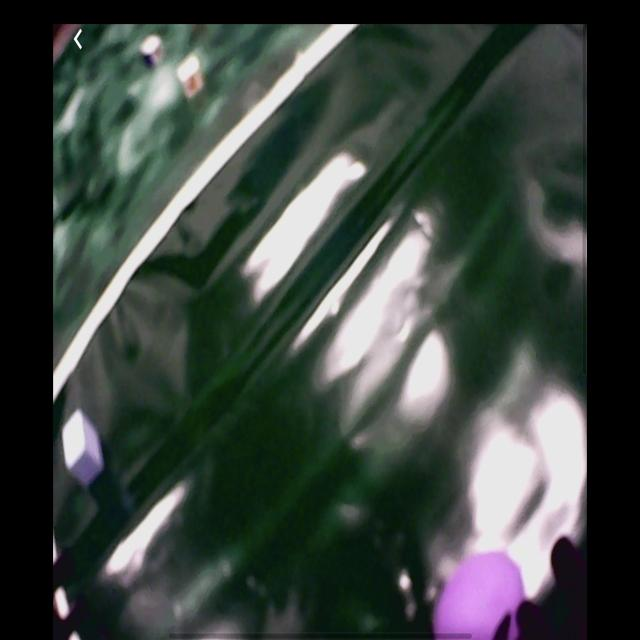ball: (435, 554, 529, 639)
